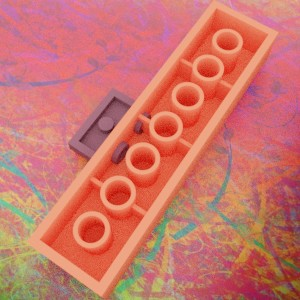lego: (26, 0, 278, 300), (67, 87, 151, 172)
